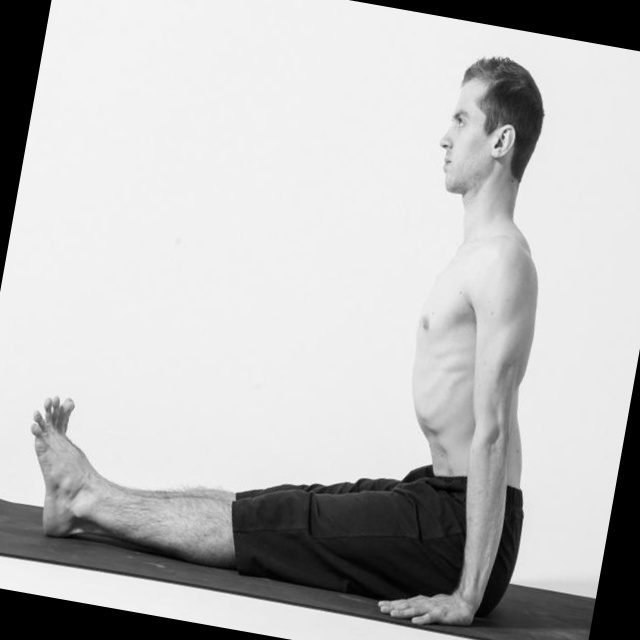Staff_Pose: (30, 57, 549, 626)
